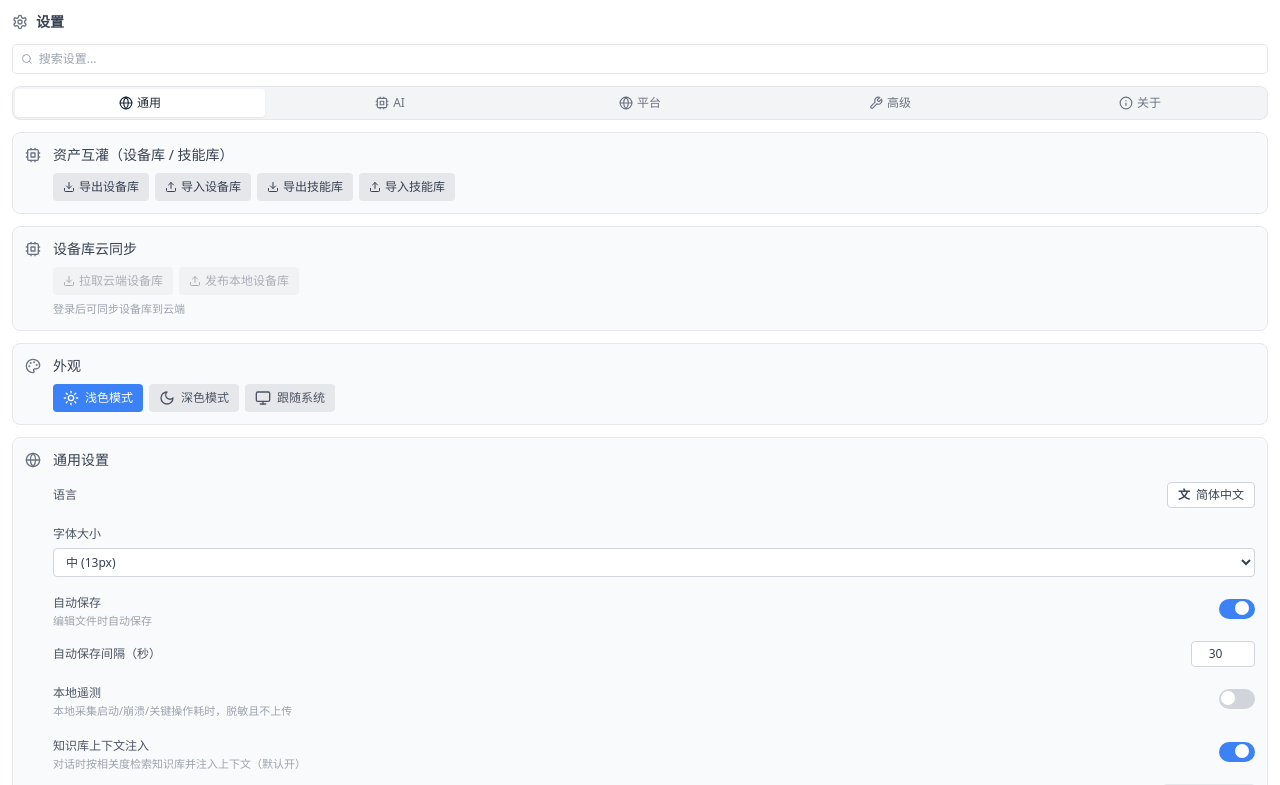
Test: SettingsPanel MC-U2 搜索 + 分类导航 › 无任何命中时展示空状态文案
This screenshot has width=1280, height=785.
Type "zzz_no_match_zzz" into the field with placeholder "搜索设置..." at (649, 59), box [39,51,1259,67]
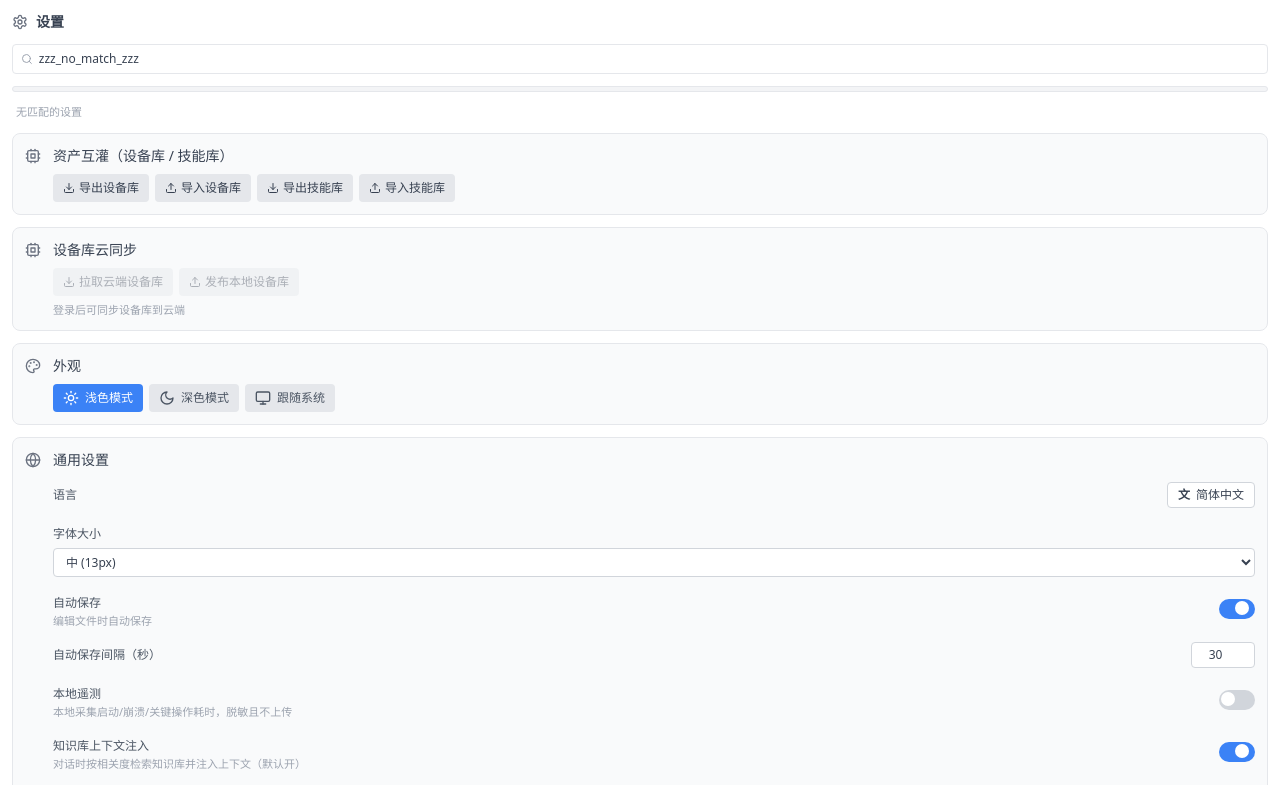
Now the text "无匹配的设置" is shown, box [16,104,82,119]
